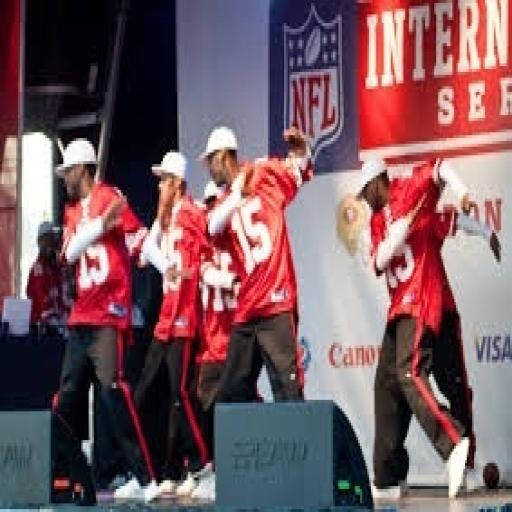dancing: (336, 150, 503, 506), (50, 135, 156, 506)
